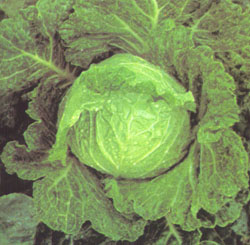cabbage: (64, 53, 198, 180)
